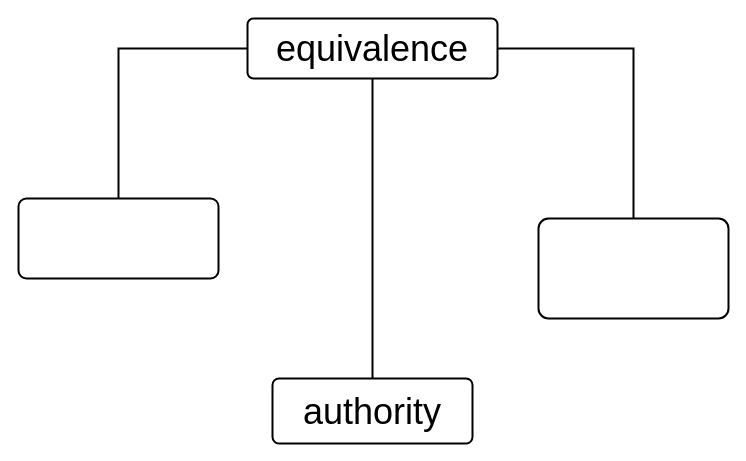
Some shapes in this 746 by 461 pixel diagram are drawn without their labels. The shapes that lost their labels are listed below. From the top down, each one's box as (x1, y1, x2, y2) in pixels, then its label:
(17, 197, 219, 279): Gaelic term
(537, 217, 729, 319): English term
